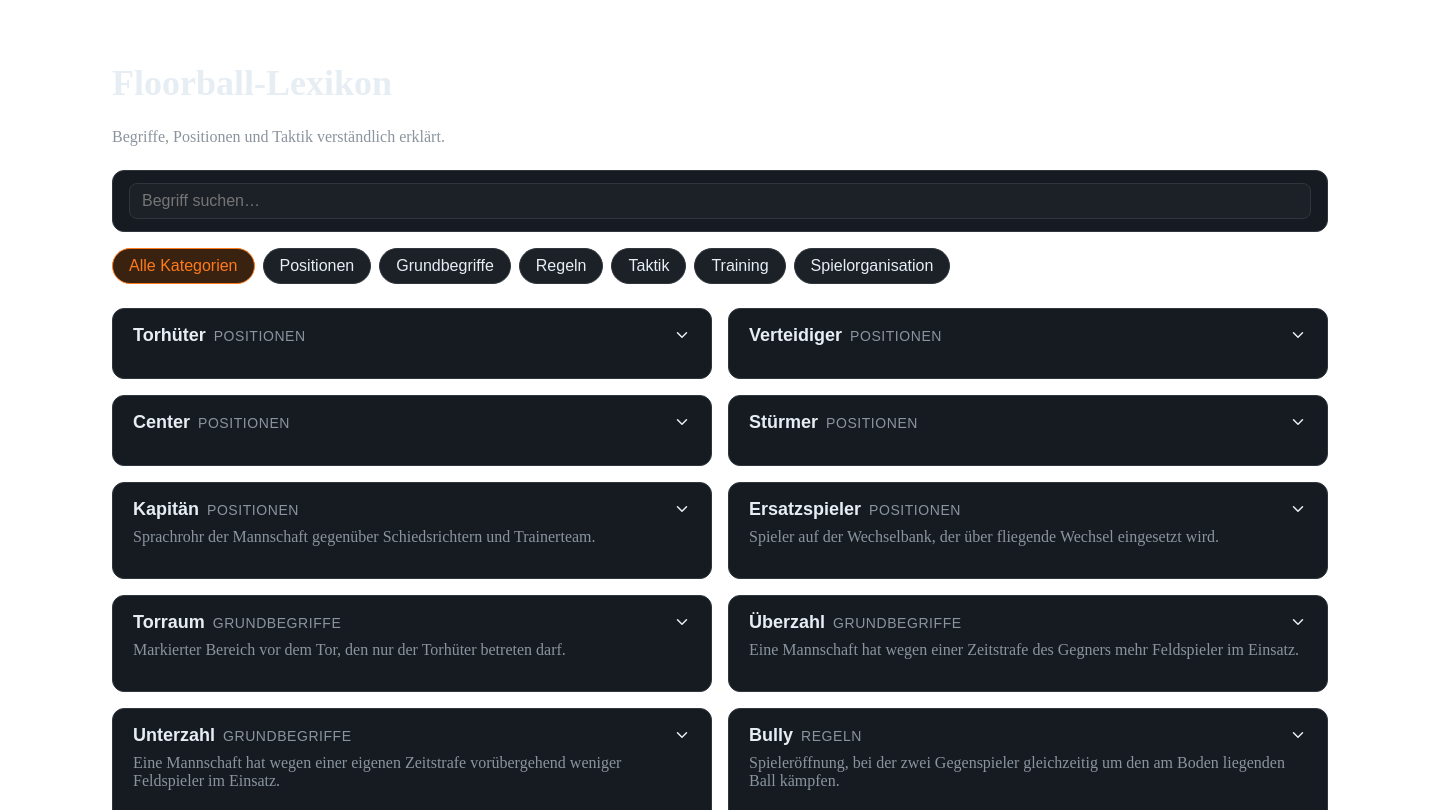
Test case: GlossaryPage › klappt einen Begriff per Klick auf und zeigt Detailtext samt Querverweisen
The width and height of the screenshot is (1440, 810).
Click the button "Torhüter" at (169, 335), box [133,325,691,346]
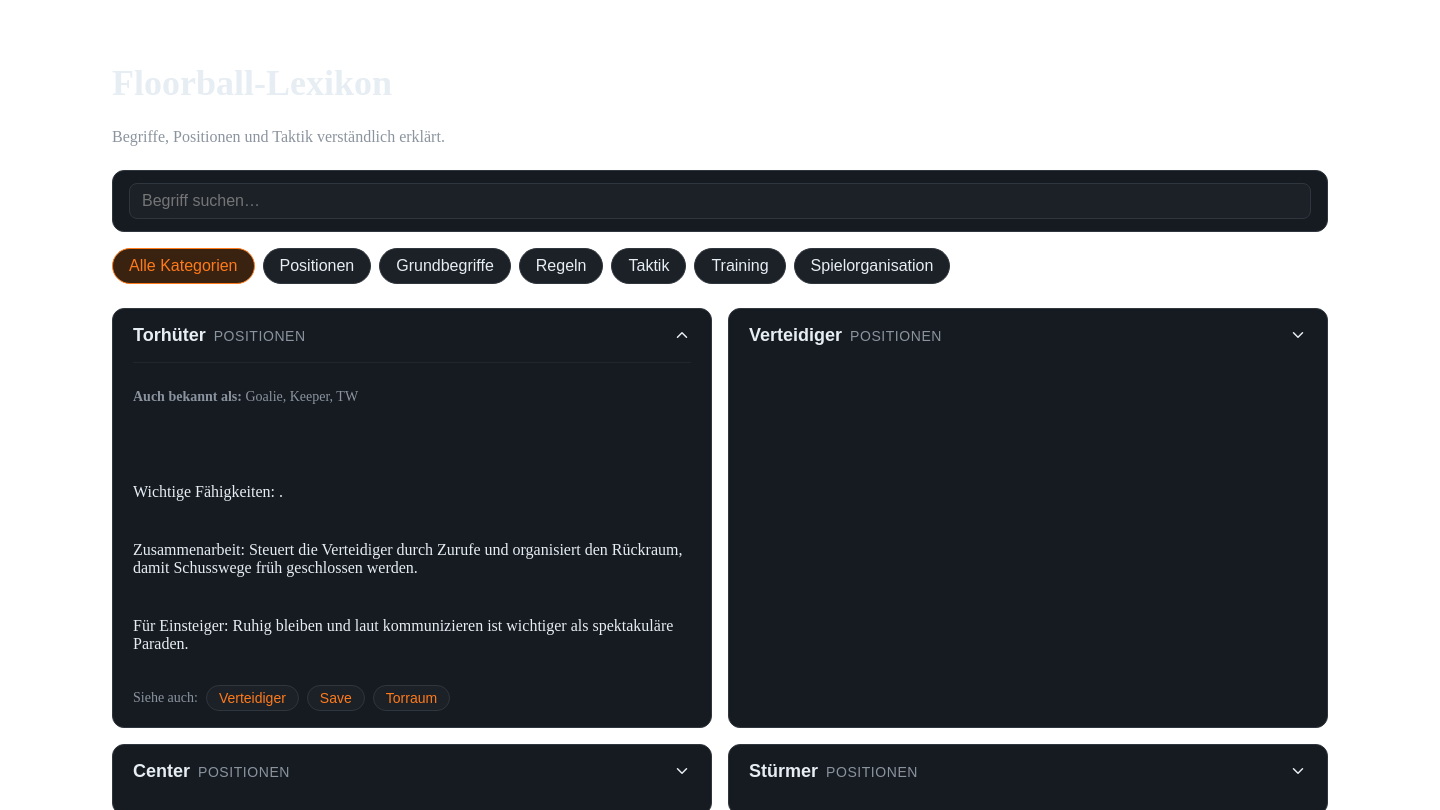
Expected: the text "Siehe auch:" is shown, [133,690,198,706]
Expected: the button "Verteidiger" is shown, [206,685,299,711]
